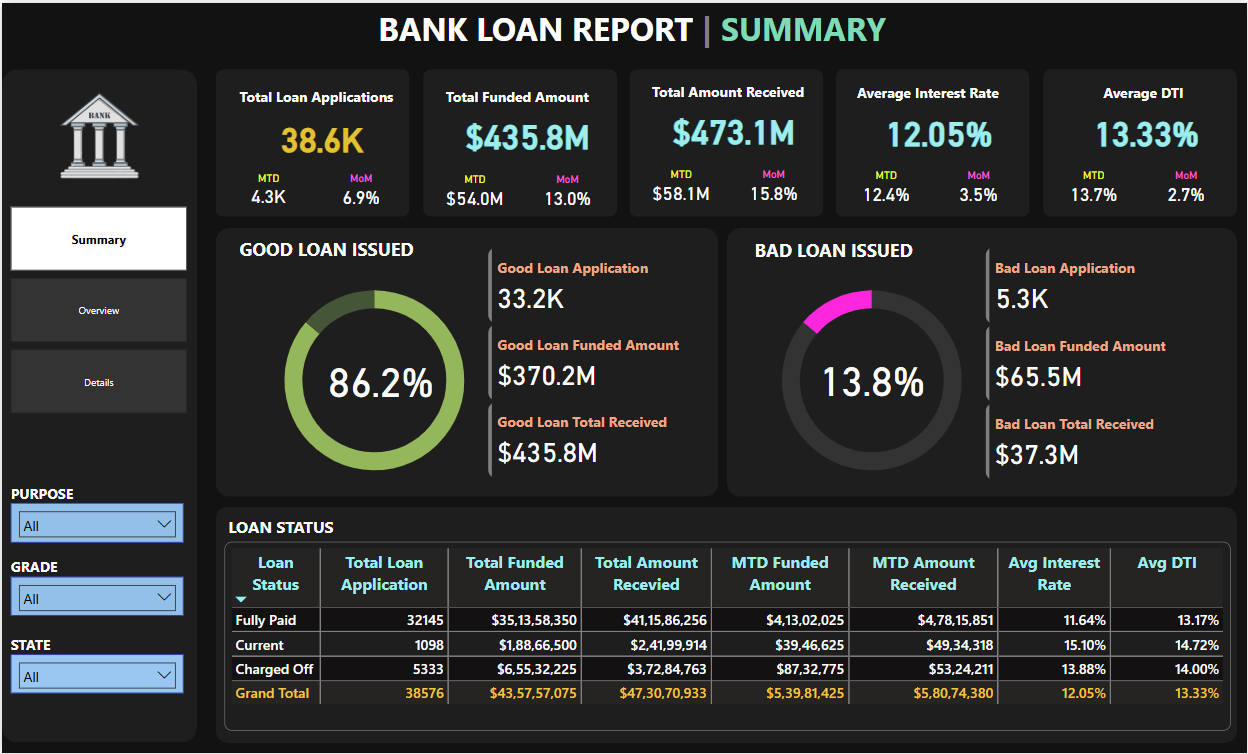

Layout of this report page (visuals, bound fields, positions):
{"tool":"powerbi","page":{"name":"Summary","canvas":[1660,1000],"ordinal":0},"visuals":[{"type":"shape","box":[11.7,88.3,260,898.3],"z":0},{"type":"card","fields":{"Values":["bankloan.Total Amount Recevied"]},"box":[886.9,106.2,178.3,125.8],"z":0,"group":"g3"},{"type":"card","fields":{"Values":["bankloan.Avg DTI"]},"box":[1437,106.7,178.3,125.8],"z":0,"group":"g5"},{"type":"card","fields":{"Values":["bankloan.Avg Interest Rate"]},"box":[1159.9,107.2,178.3,125.8],"z":0,"group":"g4"},{"type":"card","fields":{"Values":["bankloan.Total Funded Amount"]},"box":[611,113,178.3,125.8],"z":0,"group":"g2"},{"type":"card","fields":{"Values":["bankloan.Total Loan Application"]},"box":[345.4,115.4,160,125.2],"z":0,"group":"g1"},{"type":"textbox","box":[496.7,0,798.3,76.7],"z":1000},{"type":"textbox","box":[862.4,101,225.4,37.7],"z":1000,"group":"g3"},{"type":"textbox","box":[1412.5,101.5,225.4,37.7],"z":1000,"group":"g5"},{"type":"textbox","box":[1135.4,102,225.4,37.7],"z":1000,"group":"g4"},{"type":"textbox","box":[311.6,107.7,225.4,37.6],"z":1000,"group":"g1"},{"type":"textbox","box":[586.5,107.8,225.4,37.7],"z":1000,"group":"g2"},{"type":"shape","box":[285,88.7,258.3,196.7],"z":2000,"group":"g6"},{"type":"card","title":"MoM","fields":{"Values":["bankloan.MoM Amount Received"]},"box":[970.1,220.2,117.7,50],"z":2000,"group":"g3"},{"type":"card","title":"MoM","fields":{"Values":["bankloan.MoM DTI"]},"box":[1520.2,220.7,117.7,50],"z":2000,"group":"g5"},{"type":"card","title":"MoM","fields":{"Values":["bankloan.MoM Interest Rate"]},"box":[1243.1,221.2,117.7,50],"z":2000,"group":"g4"},{"type":"card","title":"MoM","fields":{"Values":["bankloan.MoM Loan Application"]},"box":[419.3,226.8,117.7,49.9],"z":2000,"group":"g1"},{"type":"card","title":"MoM","fields":{"Values":["bankloan.MoM Funded Amount"]},"box":[694.2,227,117.7,50],"z":2000,"group":"g2"},{"type":"shape","box":[285,671.3,1361.7,315],"z":2000},{"type":"card","title":"MTD","fields":{"Values":["bankloan.MTD Amount Received"]},"box":[847,220.2,117.7,50],"z":3000,"group":"g3"},{"type":"card","title":"MTD","fields":{"Values":["bankloan.MTD DTI"]},"box":[1397.1,220.7,117.7,50],"z":3000,"group":"g5"},{"type":"card","title":"MTD","fields":{"Values":["bankloan.MTD Interest Rate"]},"box":[1120,221.2,117.7,50],"z":3000,"group":"g4"},{"type":"card","title":"MTD","fields":{"Values":["bankloan.MTD Loan Application"]},"box":[296.2,226.8,117.7,49],"z":3000,"group":"g1"},{"type":"card","title":"MTD","fields":{"Values":["bankloan.MTD Funded Amount"]},"box":[571.1,227,117.7,50],"z":3000,"group":"g2"},{"type":"shape","box":[285,300,670,358.3],"z":3000},{"type":"shape","box":[966.7,300.3,680,358.3],"z":4000},{"type":"shape","box":[561.7,88.7,258.3,196.7],"z":5000,"group":"g6"},{"type":"donutChart","fields":{"Category":["bankloan.Good VS Bad Loan"],"Y":["bankloan.Total Loan Application"]},"box":[335,348.3,323.3,310],"z":5000},{"type":"shape","box":[836.7,88.7,258.3,196.7],"z":6000,"group":"g6"},{"type":"donutChart","fields":{"Category":["bankloan.Good VS Bad Loan"],"Y":["bankloan.Total Loan Application"]},"box":[998.3,348.3,323.3,310],"z":6000},{"type":"shape","box":[1111.7,88.7,258.3,196.7],"z":7000,"group":"g6"},{"type":"card","fields":{"Values":["bankloan.Good Loan %"]},"box":[416.4,451.8,177.3,96.4],"z":7000},{"type":"shape","box":[1388.3,88.7,258.3,196.7],"z":8000,"group":"g6"},{"type":"card","fields":{"Values":["bankloan.Bad Loan %"]},"box":[1071.4,450,177.1,97.1],"z":8000},{"type":"textbox","box":[311.8,307.3,346.4,92.7],"z":9000},{"type":"group","id":"g1","title":"Group 1","box":[296.2,107.7,240.8,169],"z":10000,"group":"g6"},{"type":"cardVisual","fields":{"Data":["bankloan.Good Loan Application","bankloan.Good Loan Funded Amount","bankloan.Good Loan Total Received"]},"box":[642.5,320,313.8,321.2],"z":10000},{"type":"group","id":"g2","title":"Group 1","box":[571.1,107.8,240.8,169.2],"z":11000,"group":"g6"},{"type":"textbox","box":[998,308,240,46],"z":11000},{"type":"group","id":"g3","title":"Group 1","box":[847,101,241.2,170],"z":12000,"group":"g6"},{"type":"cardVisual","fields":{"Data":["bankloan.Bad Loan Application","bankloan.Bad Loan Funded Amount","bankloan.Bad Loan Total Received"]},"box":[1306,320,314,322],"z":12000},{"type":"group","id":"g4","title":"Group 1","box":[1120,102,241.7,170],"z":13000,"group":"g6"},{"type":"tableEx","fields":{"Values":["bankloan.loan_status","bankloan.Total Loan Application","bankloan.Total Funded Amount","bankloan.Total Amount Recevied","bankloan.MTD Funded Amount","bankloan.MTD Amount Received","bankloan.Avg Interest Rate","bankloan.Avg DTI"]},"box":[296.7,718.3,1341.7,251.7],"z":13000},{"type":"group","id":"g5","title":"Group 1","box":[1397.1,101.5,241.4,170],"z":14000,"group":"g6"},{"type":"textbox","box":[295.8,678.3,375.8,40],"z":14000},{"type":"pageNavigator","box":[23.3,271.7,235,275],"z":15000},{"type":"slicer","fields":{"Values":["bankloan.purpose"]},"box":[26.9,606.1,230.8,53.1],"z":15000,"group":"g7"},{"type":"group","id":"g6","title":"Group 2","box":[285,88.7,1361.7,196.7],"z":16000},{"type":"group","id":"g7","title":"Group 3","box":[21.7,576.7,236.7,283.3],"z":17000},{"type":"slicer","fields":{"Values":["bankloan.grade"]},"box":[26.9,705.3,230.8,52.3],"z":17000,"group":"g7"},{"type":"image","box":[43.3,96.7,196.7,160],"z":18000},{"type":"slicer","fields":{"Values":["bankloan.address_state"]},"box":[26.9,809.2,230.8,52.3],"z":18000,"group":"g7"},{"type":"textbox","box":[21.9,576.7,140,46],"z":19000,"group":"g7"},{"type":"textbox","box":[21.9,674,140,46],"z":20000,"group":"g7"},{"type":"textbox","box":[21.7,777.8,140,45.7],"z":21000,"group":"g7"}]}

Visuals, with their boxes in screenshot pixels (x1, y1, x2, y2), scaled from the page's 1660x1000 canvas onto the 1248x754 screenshot:
shape: pyautogui.locateOnScreen(9, 67, 204, 744)
card - bankloan.Total Amount Recevied: pyautogui.locateOnScreen(667, 80, 801, 175)
card - bankloan.Avg DTI: pyautogui.locateOnScreen(1080, 80, 1214, 175)
card - bankloan.Avg Interest Rate: pyautogui.locateOnScreen(872, 81, 1006, 176)
card - bankloan.Total Funded Amount: pyautogui.locateOnScreen(459, 85, 593, 180)
card - bankloan.Total Loan Application: pyautogui.locateOnScreen(260, 87, 380, 181)
textbox: pyautogui.locateOnScreen(373, 0, 974, 58)
textbox: pyautogui.locateOnScreen(648, 76, 818, 105)
textbox: pyautogui.locateOnScreen(1062, 77, 1231, 105)
textbox: pyautogui.locateOnScreen(854, 77, 1023, 105)
textbox: pyautogui.locateOnScreen(234, 81, 404, 110)
textbox: pyautogui.locateOnScreen(441, 81, 610, 110)
shape: pyautogui.locateOnScreen(214, 67, 408, 215)
"MoM" card: pyautogui.locateOnScreen(729, 166, 818, 204)
"MoM" card: pyautogui.locateOnScreen(1143, 166, 1231, 204)
"MoM" card: pyautogui.locateOnScreen(935, 167, 1023, 204)
"MoM" card: pyautogui.locateOnScreen(315, 171, 404, 209)
"MoM" card: pyautogui.locateOnScreen(522, 171, 610, 209)
shape: pyautogui.locateOnScreen(214, 506, 1238, 744)
"MTD" card: pyautogui.locateOnScreen(637, 166, 725, 204)
"MTD" card: pyautogui.locateOnScreen(1050, 166, 1139, 204)
"MTD" card: pyautogui.locateOnScreen(842, 167, 931, 204)
"MTD" card: pyautogui.locateOnScreen(223, 171, 311, 208)
"MTD" card: pyautogui.locateOnScreen(429, 171, 518, 209)
shape: pyautogui.locateOnScreen(214, 226, 718, 496)
shape: pyautogui.locateOnScreen(727, 226, 1238, 497)
shape: pyautogui.locateOnScreen(422, 67, 616, 215)
donutChart - bankloan.Good VS Bad Loan x bankloan.Total Loan Application: pyautogui.locateOnScreen(252, 263, 495, 496)
shape: pyautogui.locateOnScreen(629, 67, 823, 215)
donutChart - bankloan.Good VS Bad Loan x bankloan.Total Loan Application: pyautogui.locateOnScreen(751, 263, 994, 496)
shape: pyautogui.locateOnScreen(836, 67, 1030, 215)
card - bankloan.Good Loan %: pyautogui.locateOnScreen(313, 341, 446, 413)
shape: pyautogui.locateOnScreen(1044, 67, 1238, 215)
card - bankloan.Bad Loan %: pyautogui.locateOnScreen(805, 339, 939, 413)
textbox: pyautogui.locateOnScreen(234, 232, 495, 302)
"Group 1" group: pyautogui.locateOnScreen(223, 81, 404, 209)
cardVisual - bankloan.Good Loan Application x bankloan.Good Loan Funded Amount: pyautogui.locateOnScreen(483, 241, 719, 483)
"Group 1" group: pyautogui.locateOnScreen(429, 81, 610, 209)
textbox: pyautogui.locateOnScreen(750, 232, 931, 267)
"Group 1" group: pyautogui.locateOnScreen(637, 76, 818, 204)
cardVisual - bankloan.Bad Loan Application x bankloan.Bad Loan Funded Amount: pyautogui.locateOnScreen(982, 241, 1218, 484)
"Group 1" group: pyautogui.locateOnScreen(842, 77, 1024, 205)
tableEx - bankloan.loan_status x bankloan.Total Loan Application: pyautogui.locateOnScreen(223, 542, 1232, 731)
"Group 1" group: pyautogui.locateOnScreen(1050, 77, 1232, 205)
textbox: pyautogui.locateOnScreen(222, 511, 505, 542)
pageNavigator: pyautogui.locateOnScreen(18, 205, 194, 412)
slicer - bankloan.purpose: pyautogui.locateOnScreen(20, 457, 194, 497)
"Group 2" group: pyautogui.locateOnScreen(214, 67, 1238, 215)
"Group 3" group: pyautogui.locateOnScreen(16, 435, 194, 648)
slicer - bankloan.grade: pyautogui.locateOnScreen(20, 532, 194, 571)
image: pyautogui.locateOnScreen(33, 73, 180, 194)
slicer - bankloan.address_state: pyautogui.locateOnScreen(20, 610, 194, 650)
textbox: pyautogui.locateOnScreen(16, 435, 122, 470)
textbox: pyautogui.locateOnScreen(16, 508, 122, 543)
textbox: pyautogui.locateOnScreen(16, 586, 122, 621)
